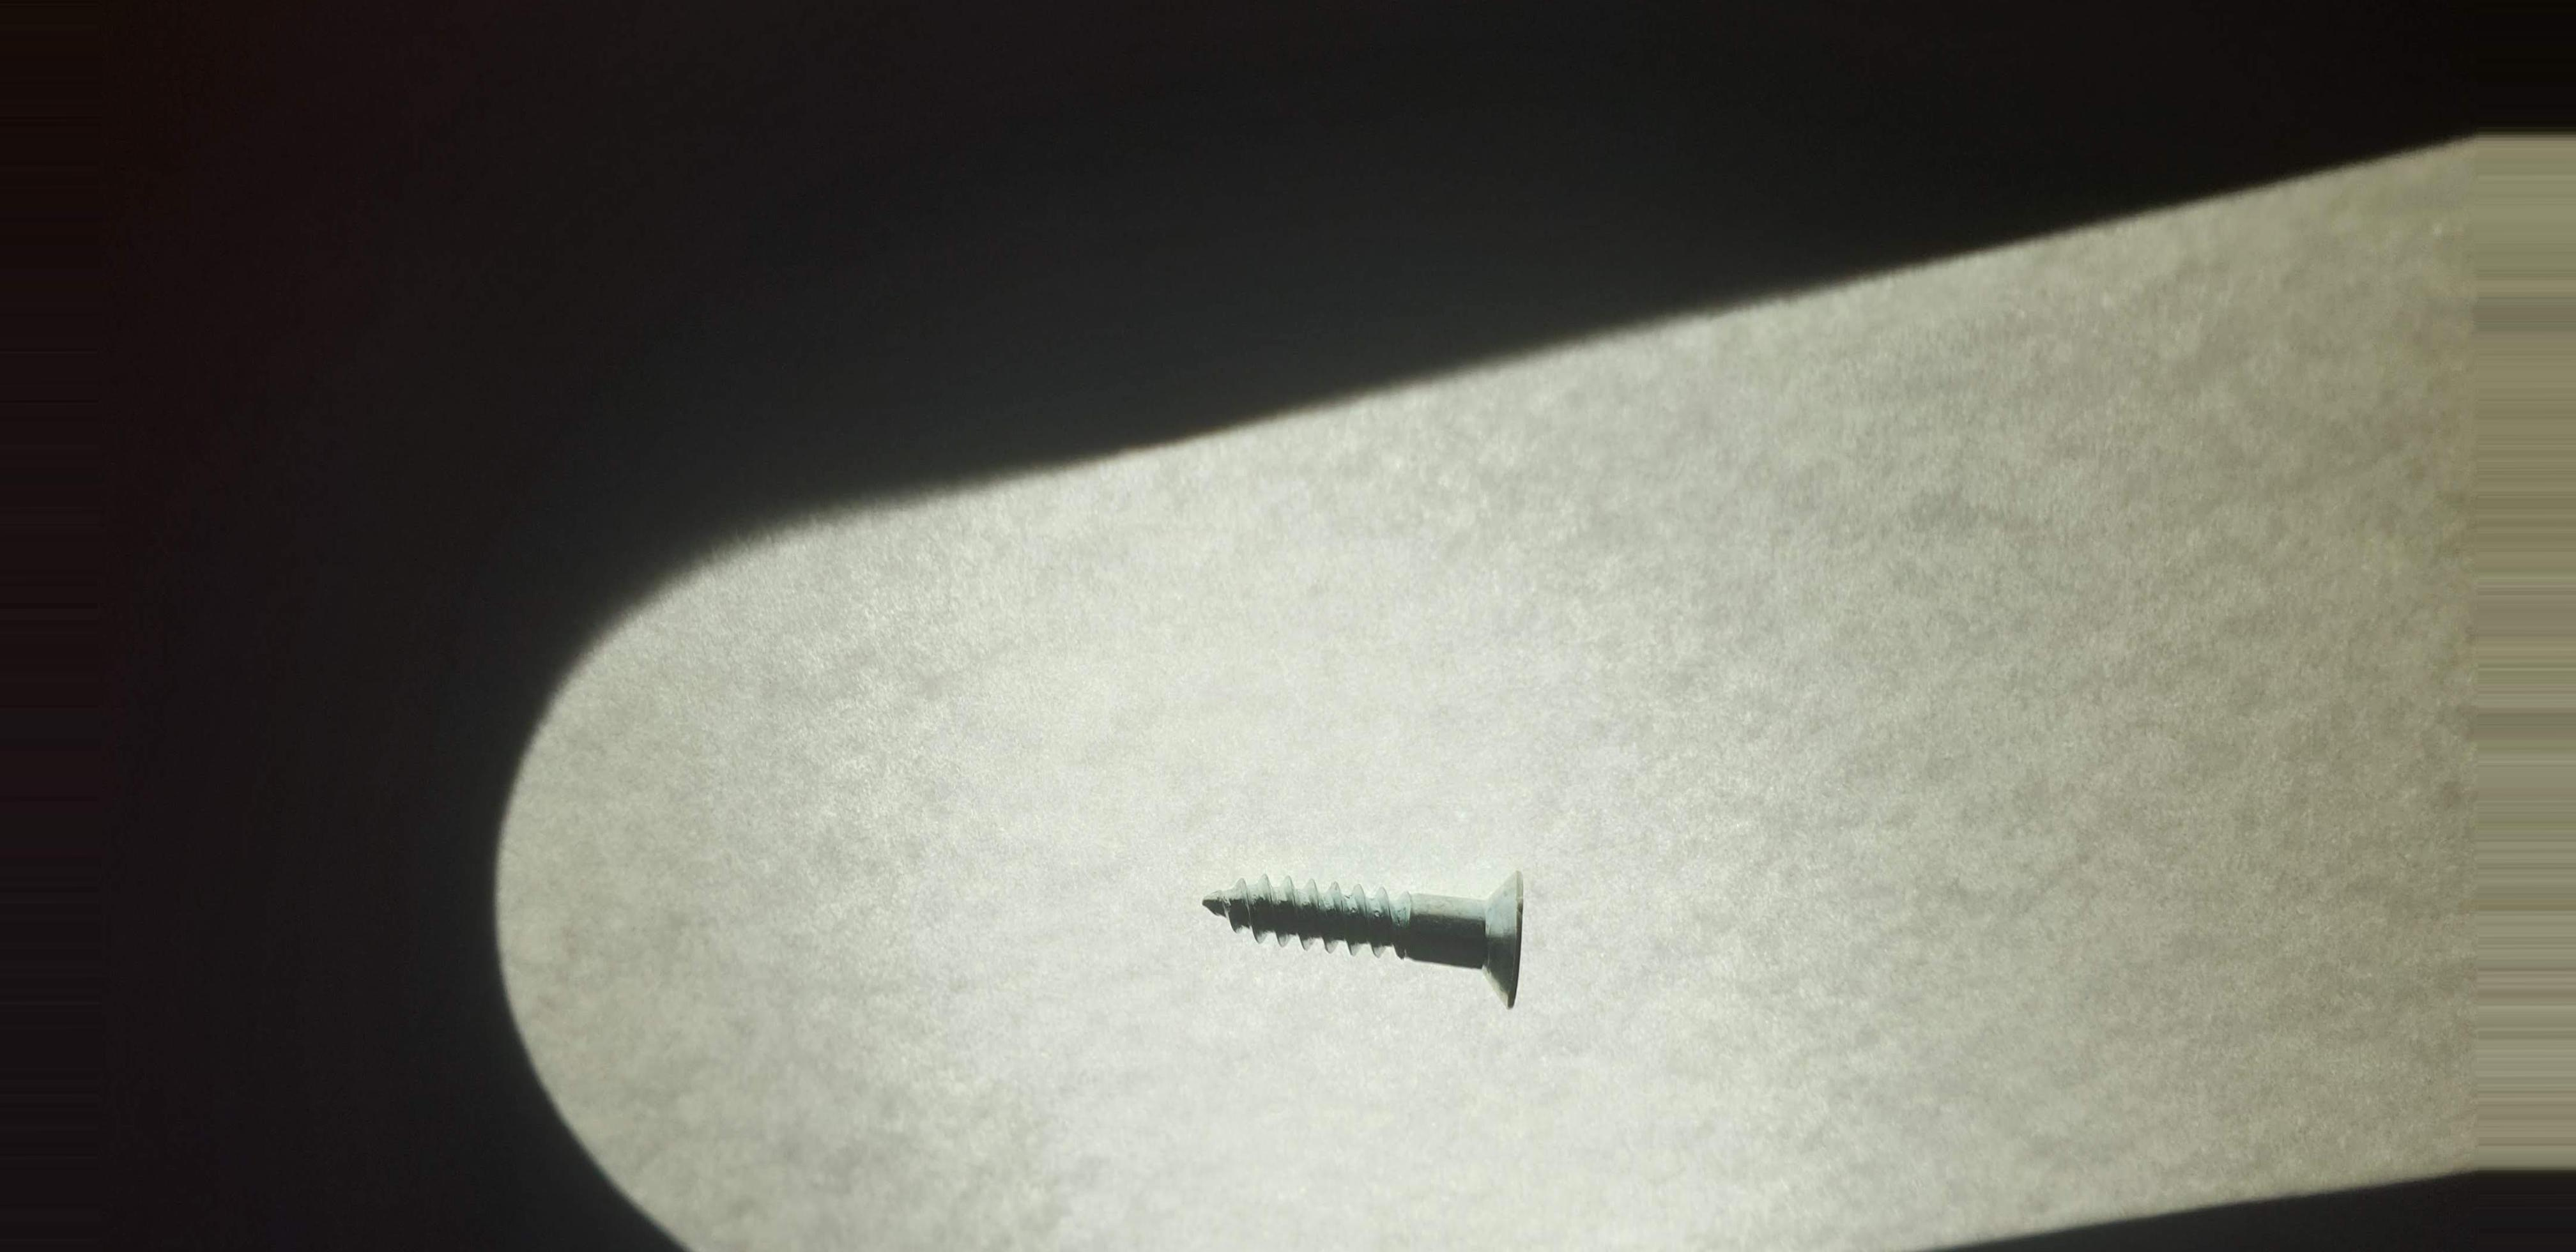S005: (1166, 833, 1587, 1038)
